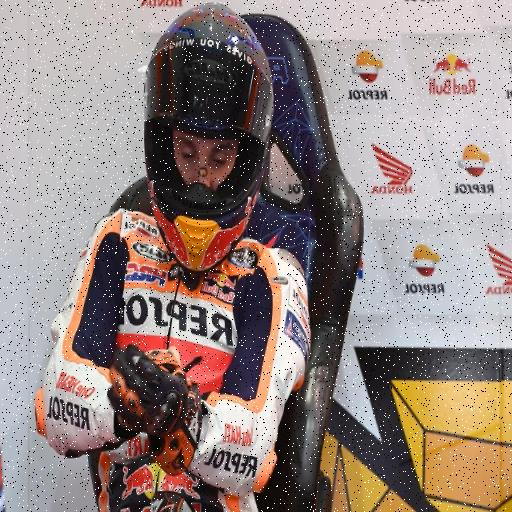Helmet: (138, 7, 268, 274)
